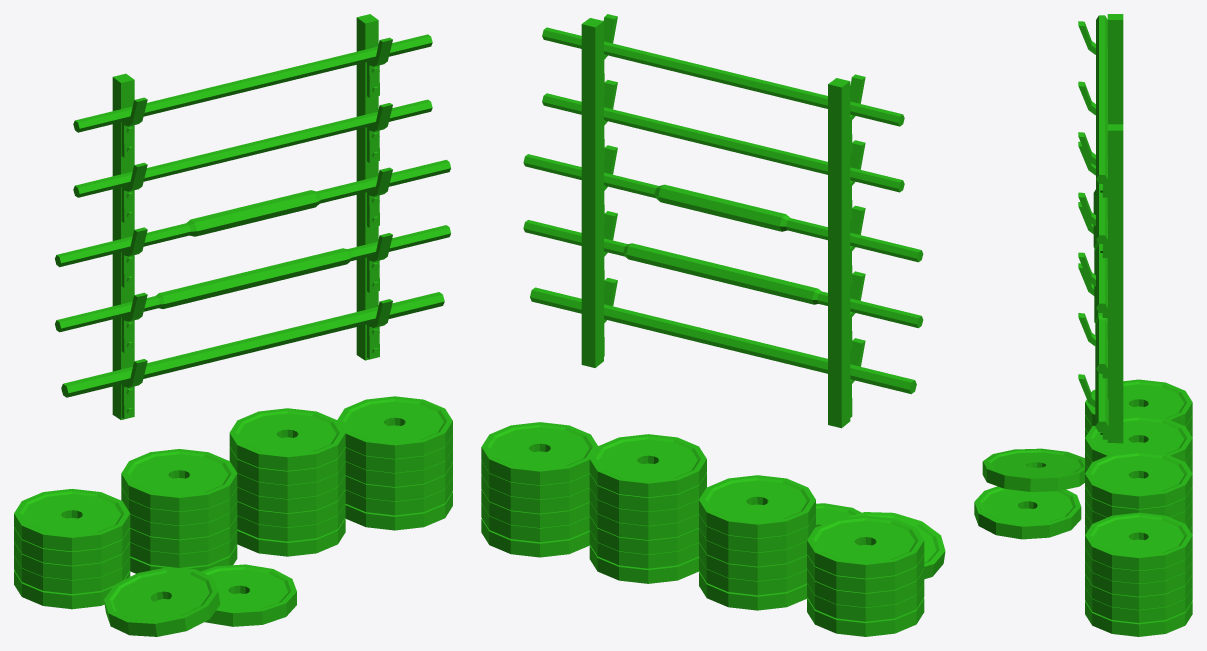
The model's file is FREE_LowPoly_Crossfit_-_Bars_Weights.glb.
3 renders of one model, left to right at view 1: azimuth 30°, elevation 25°; view 2: azimuth 150°, elevation 25°; view 3: azimuth 270°, elevation 25°, orthographic. The views are drawn at different scales.
Visible parts, largest first — view 1: Cube.005_acier_0, Cube.019_poids_jaune_0, Cube.005_plaque_0, Cube.019_poids_bleu_0, Cube.019_poids_vert_0, Cube.019_poids_rouge_0, Cube.019_poids_trou_0; view 2: Cube.005_acier_0, Cube.005_plaque_0, Cube.019_poids_jaune_0, Cube.019_poids_bleu_0, Cube.019_poids_vert_0, Cube.019_poids_rouge_0, Cube.019_poids_trou_0; view 3: Cube.019_poids_vert_0, Cube.019_poids_jaune_0, Cube.005_plaque_0, Cube.019_poids_bleu_0, Cube.005_acier_0, Cube.019_poids_rouge_0, Cube.019_poids_trou_0.
Part boxes in pixels (x1,y1,x2,y2): Cube.005_acier_0: (55, 34, 450, 397); Cube.019_poids_jaune_0: (104, 449, 296, 636); Cube.005_plaque_0: (112, 14, 392, 419); Cube.019_poids_bleu_0: (229, 408, 345, 556); Cube.019_poids_vert_0: (337, 396, 452, 530); Cube.019_poids_rouge_0: (14, 489, 130, 609); Cube.019_poids_trou_0: (61, 417, 405, 602); Cube.005_acier_0: (523, 27, 923, 394); Cube.005_plaque_0: (581, 14, 865, 428); Cube.019_poids_jaune_0: (699, 475, 945, 610); Cube.019_poids_bleu_0: (589, 434, 706, 583); Cube.019_poids_vert_0: (481, 422, 597, 557); Cube.019_poids_rouge_0: (807, 515, 924, 636); Cube.019_poids_trou_0: (529, 443, 876, 546); Cube.019_poids_vert_0: (1085, 512, 1192, 636); Cube.019_poids_jaune_0: (974, 415, 1192, 539); Cube.005_plaque_0: (1078, 14, 1123, 443); Cube.019_poids_bleu_0: (1085, 451, 1192, 534); Cube.005_acier_0: (1093, 15, 1108, 432); Cube.019_poids_rouge_0: (1085, 379, 1192, 437); Cube.019_poids_trou_0: (1018, 399, 1148, 540).
Bounding box in the file's own units: 1.1 × 1.26 × 0.5314.
